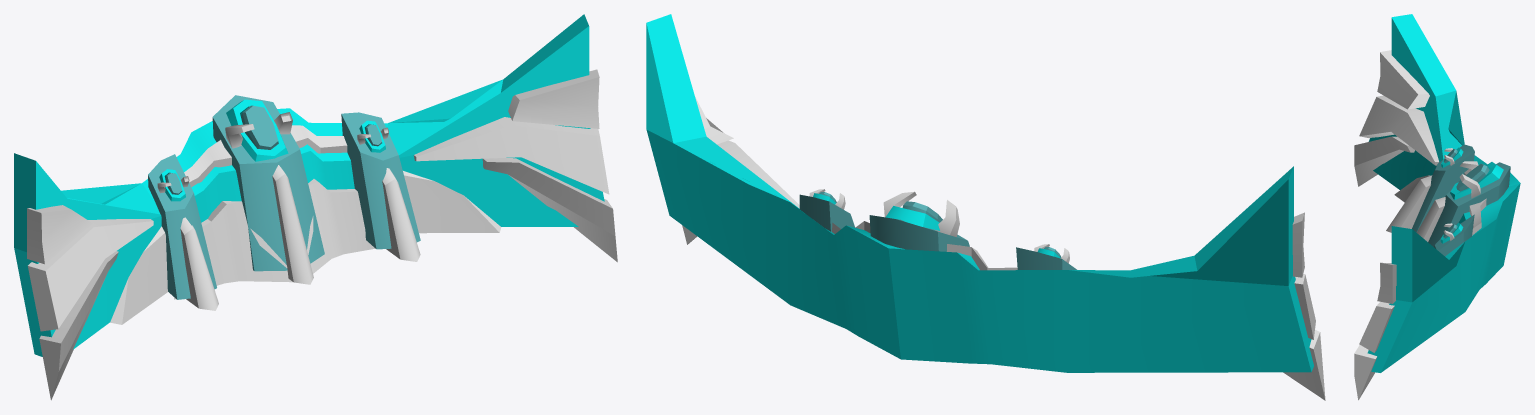
File: tablero_01_color.fbx
3 views of the same model, side by side, from view 1: azimuth 30°, elevation 25°; view 2: azimuth 150°, elevation 25°; view 3: azimuth 270°, elevation 25° (orthographic). The views are drawn at different scales.
Visible parts, largest first — view 1: base, deco, det (×3), boce, bod2, bod1, pCube5, pCube4, boce1, boce2, boce3, borde (+1 smaller); view 2: base, deco, boce, det (×2), bod2, bod1, borde; view 3: base, deco, boce, bod1, boce3, det (×2), bod2, boce1, borde, push, pCube4.
Boxes of the visible parts, x1,y1,x2,y2 form: base: (14,14,604,356); deco: (27,69,617,400); det (×3): (174,112,374,299); boce: (212,95,324,271); bod2: (341,112,420,249); bod1: (148,154,216,299); pCube5: (403,171,501,233); pCube4: (110,226,167,324); boce1: (272,165,313,284); boce2: (382,168,420,261); boce3: (180,217,218,310); borde: (226,99,288,161); base: (646,14,1313,372); deco: (682,96,1325,400); boce: (869,215,969,251); det (×2): (832,191,1017,270); bod2: (799,194,855,231); bod1: (1016,247,1076,269); borde: (886,206,939,230); base: (1367,14,1520,372); deco: (1354,50,1438,400); boce: (1428,162,1510,246); bod1: (1412,144,1474,232); boce3: (1386,175,1432,232); det (×2): (1459,161,1486,235); bod2: (1434,214,1474,256); boce1: (1416,197,1445,241); borde: (1450,162,1503,200); push: (1456,163,1489,191); pCube4: (1394,175,1430,202).
Bounding box in the file's own units: 19.97 × 7.45 × 6.52.
